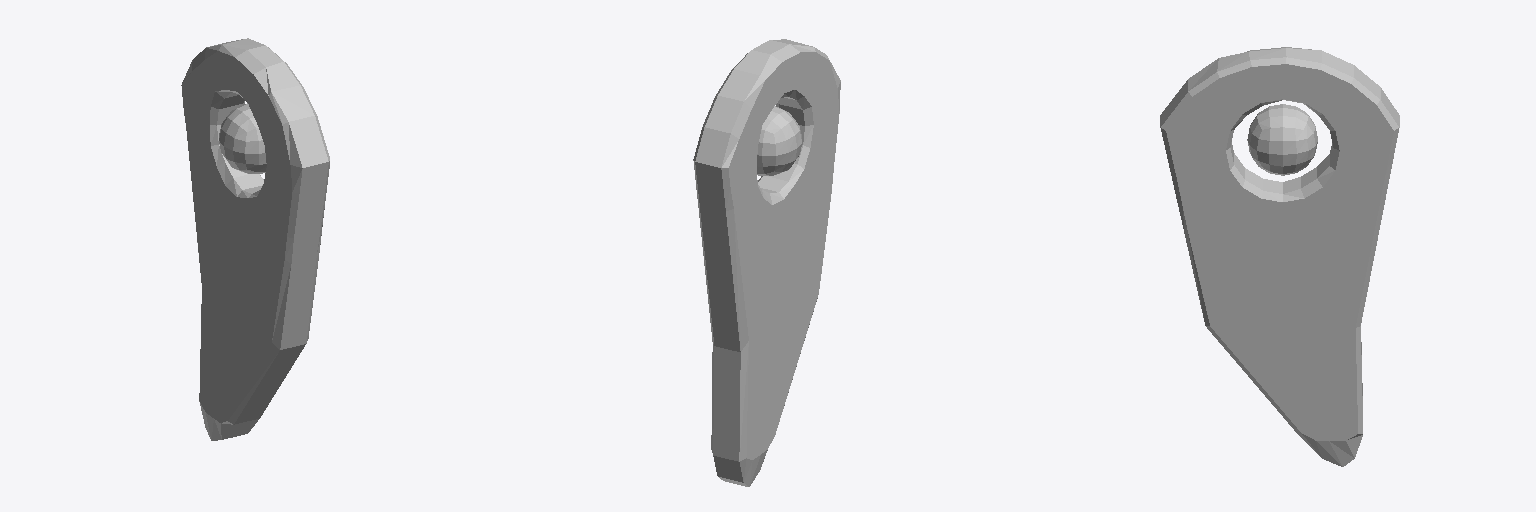
The model's file is PointyWall.obj.
The picture shows the model from 3 angles: view 1: azimuth 30°, elevation 25°; view 2: azimuth 150°, elevation 25°; view 3: azimuth 270°, elevation 25°; orthographic projection.
Parts seen in each view (by area): view 1: Round_MagicalWall_Blockout polySurface1, pCube52 Round_MagicalWall_Blockout; view 2: Round_MagicalWall_Blockout polySurface1, pCube52 Round_MagicalWall_Blockout; view 3: Round_MagicalWall_Blockout polySurface1, pCube52 Round_MagicalWall_Blockout.
Boxes of the visible parts, x1=… form: Round_MagicalWall_Blockout polySurface1: x1=181, y1=38, x2=329, y2=440; pCube52 Round_MagicalWall_Blockout: x1=219, y1=104, x2=266, y2=173; Round_MagicalWall_Blockout polySurface1: x1=693, y1=39, x2=840, y2=486; pCube52 Round_MagicalWall_Blockout: x1=757, y1=106, x2=801, y2=175; Round_MagicalWall_Blockout polySurface1: x1=1160, y1=47, x2=1399, y2=466; pCube52 Round_MagicalWall_Blockout: x1=1247, y1=104, x2=1317, y2=175.
Size of the model in its own units: 106 by 676 by 357.